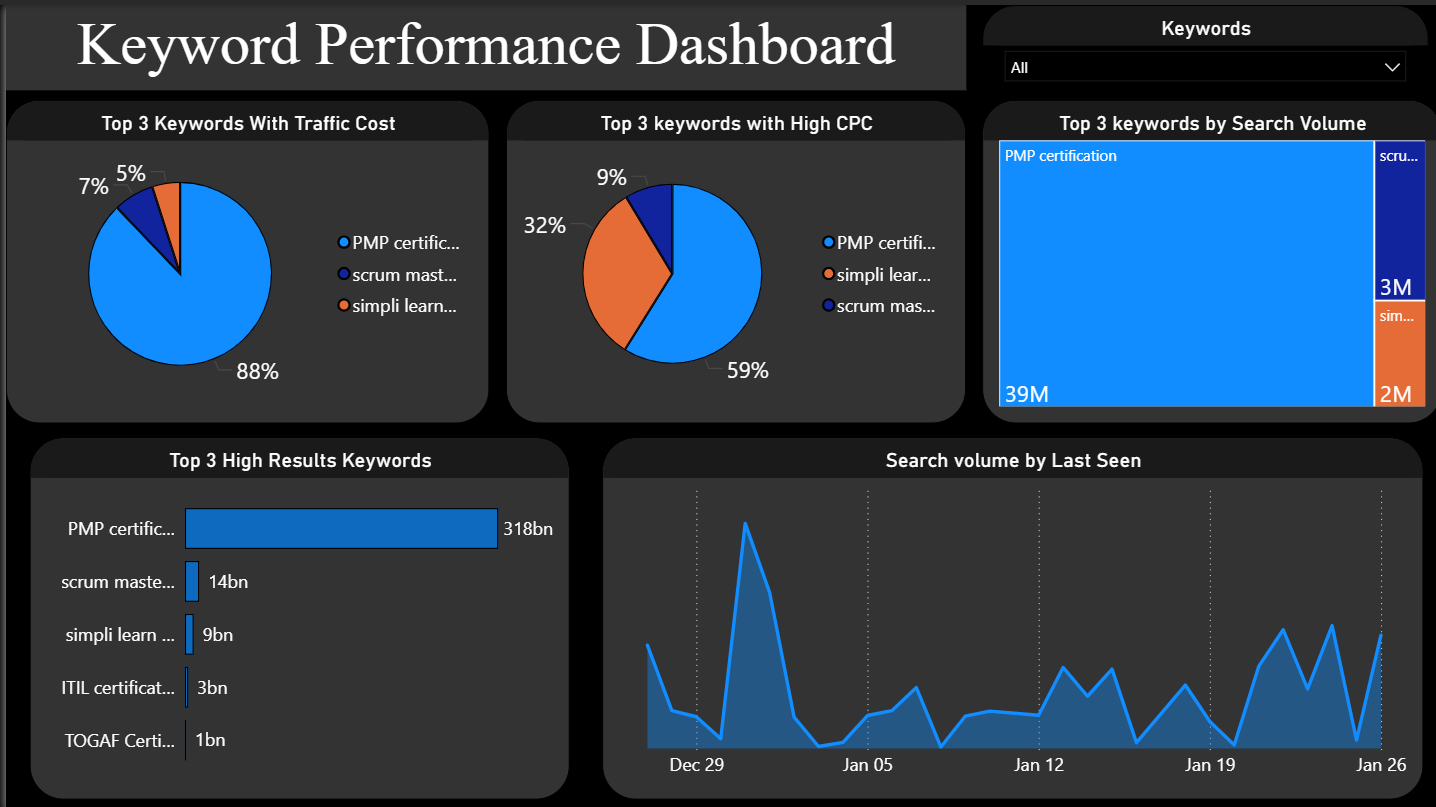

What the dashboard file says about the page in this screenshot:
{"tool":"powerbi","page":{"name":"Page 1","canvas":[1280,720],"ordinal":0},"visuals":[{"type":"textbox","box":[0,0,855.2,76.1],"z":0},{"type":"clusteredBarChart","title":"Top 3 High Results Keywords","fields":{"Category":["main_table.Keyword"],"Y":["Sum(main_table.Number of Results)"]},"box":[20.9,385.3,481,322.7],"z":1000},{"type":"pieChart","title":"Top 3 Keywords With Traffic Cost","fields":{"Y":["Sum(main_table.Traffic Cost)"],"Category":["main_table.Keyword"]},"box":[0,84.7,430.7,288.3],"z":2000},{"type":"pieChart","title":"Top 3 leywords with High CPC","fields":{"Y":["Sum(main_table.Cost_per_click)"],"Category":["main_table.Keyword"]},"box":[445.4,84.7,409.8,288.3],"z":3000},{"type":"treemap","title":"Top 3 keywords by Search Volume","fields":{"Group":["main_table.Keyword"],"Values":["Sum(main_table.Search_volume)"]},"box":[869.9,84.7,409.8,288.3],"z":4000},{"type":"areaChart","title":"Search volume by Last Seen","fields":{"Category":["main_table.Last Seen"],"Y":["Sum(main_table.Search_volume)"]},"box":[531.3,385.3,731.3,322.7],"z":5000},{"type":"slicer","title":"Keywords","fields":{"Values":["main_table.Keyword"]},"box":[869.9,0,397.5,76.1],"z":5001}]}

Visuals, with their boxes in screenshot pixels (x1, y1, x2, y2), scaled from the page's 1280x720 canvas onto the 1436x807 screenshot:
textbox: BBox(0, 0, 959, 85)
"Top 3 High Results Keywords" clusteredBarChart: BBox(23, 432, 563, 794)
"Top 3 Keywords With Traffic Cost" pieChart: BBox(0, 95, 483, 418)
"Top 3 leywords with High CPC" pieChart: BBox(500, 95, 959, 418)
"Top 3 keywords by Search Volume" treemap: BBox(976, 95, 1435, 418)
"Search volume by Last Seen" areaChart: BBox(596, 432, 1416, 794)
"Keywords" slicer: BBox(976, 0, 1422, 85)
